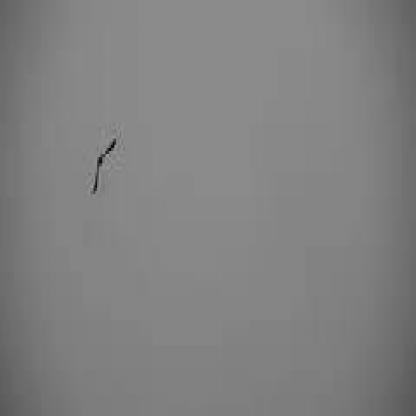bird: (86, 132, 130, 202)
